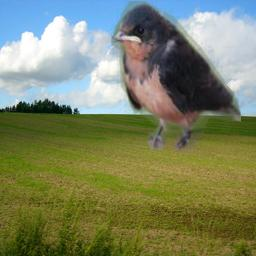Swallow: (111, 1, 241, 151)
